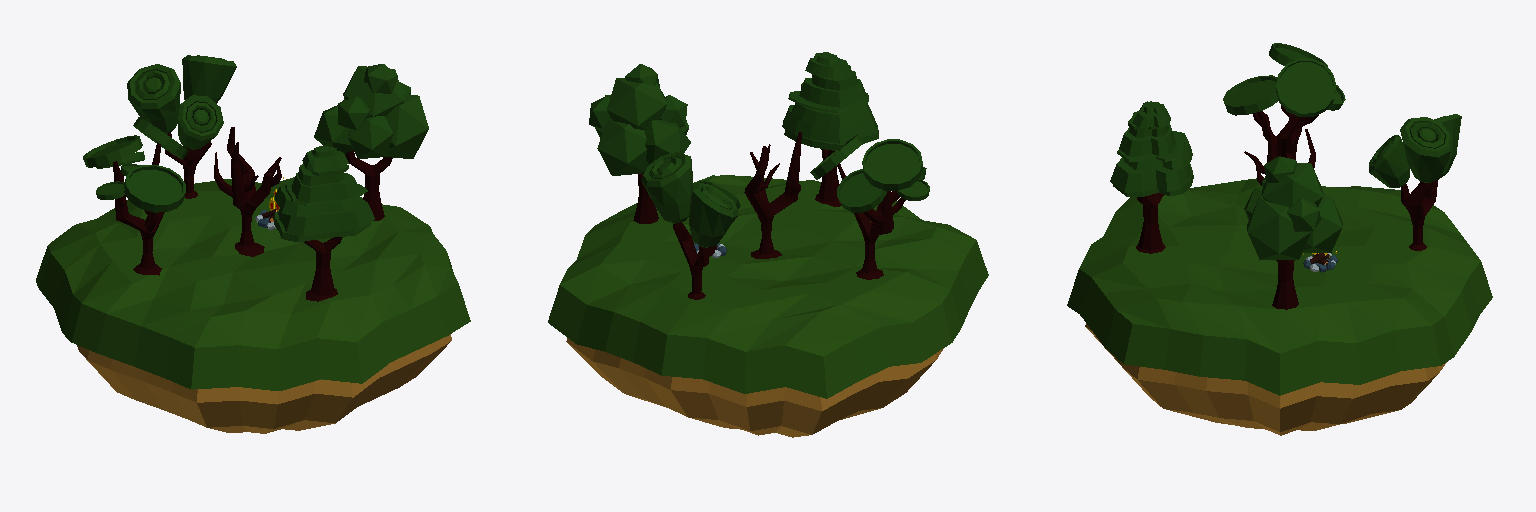
File: trees_camp.obj
3 renders of one model, left to right at view 1: azimuth 30°, elevation 25°; view 2: azimuth 150°, elevation 25°; view 3: azimuth 270°, elevation 25°, orthographic.
Visible parts, largest first — view 1: trees_Material.013, trees_Material.012, trees_Material.014, trees_Material.011; view 2: trees_Material.013, trees_Material.012, trees_Material.014, trees_Material.011; view 3: trees_Material.013, trees_Material.012, trees_Material.014, trees_Material.011.
Boxes of the visible parts, x1,y1,x2,y2 form: trees_Material.013: [36, 177, 470, 390]; trees_Material.012: [83, 55, 428, 242]; trees_Material.014: [77, 334, 451, 433]; trees_Material.011: [113, 127, 392, 301]; trees_Material.013: [548, 175, 988, 398]; trees_Material.012: [589, 52, 929, 247]; trees_Material.014: [566, 338, 943, 437]; trees_Material.011: [633, 132, 905, 299]; trees_Material.013: [1067, 178, 1492, 395]; trees_Material.012: [1110, 43, 1461, 259]; trees_Material.014: [1085, 323, 1446, 435]; trees_Material.011: [1136, 105, 1437, 309].
Size of the model in its own units: 37.38 by 31.27 by 37.38.